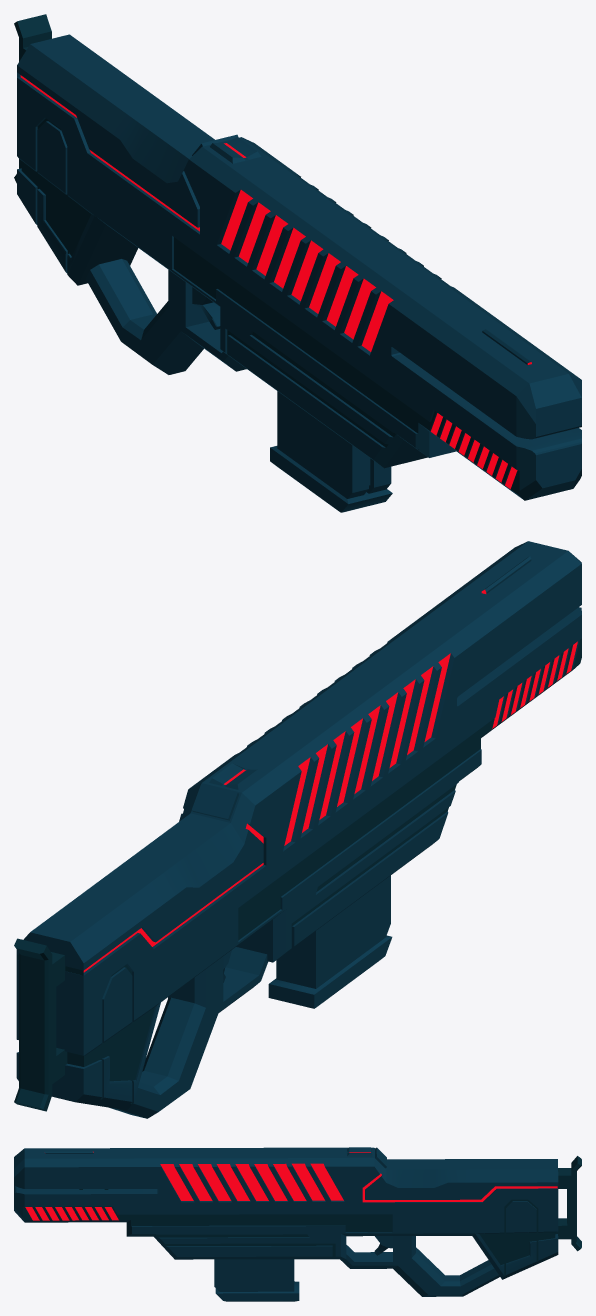
File: SpaceGun.fbx
3 views of the same model, one above another, from view 1: azimuth 30°, elevation 25°; view 2: azimuth 150°, elevation 25°; view 3: azimuth 270°, elevation 25° (orthographic). The views are drawn at different scales.
Visible parts, largest first — view 1: Arma.001, Cargador 5, Cargador 1, Cargador 2, Cargador 3, Cargador 4; view 2: Arma.001, Cargador 1, Cargador 2, Cargador 5; view 3: Arma.001, Cargador 1, Cargador 2, Cargador 5.
Boxes of the visible parts, x1,y1,x2,y2 form: Arma.001: (14,14,581,500); Cargador 5: (270,412,392,512); Cargador 1: (270,391,388,512); Cargador 2: (270,406,372,503); Cargador 3: (277,395,351,486); Cargador 4: (277,392,346,484); Arma.001: (14,541,581,1118); Cargador 1: (268,877,392,1008); Cargador 2: (274,889,388,998); Cargador 5: (316,876,391,1002); Arma.001: (14,1147,581,1296); Cargador 1: (214,1259,299,1301); Cargador 2: (216,1259,299,1301); Cargador 5: (215,1259,298,1300).
Bounding box in the file's own units: 19.36 × 71.16 × 251.
